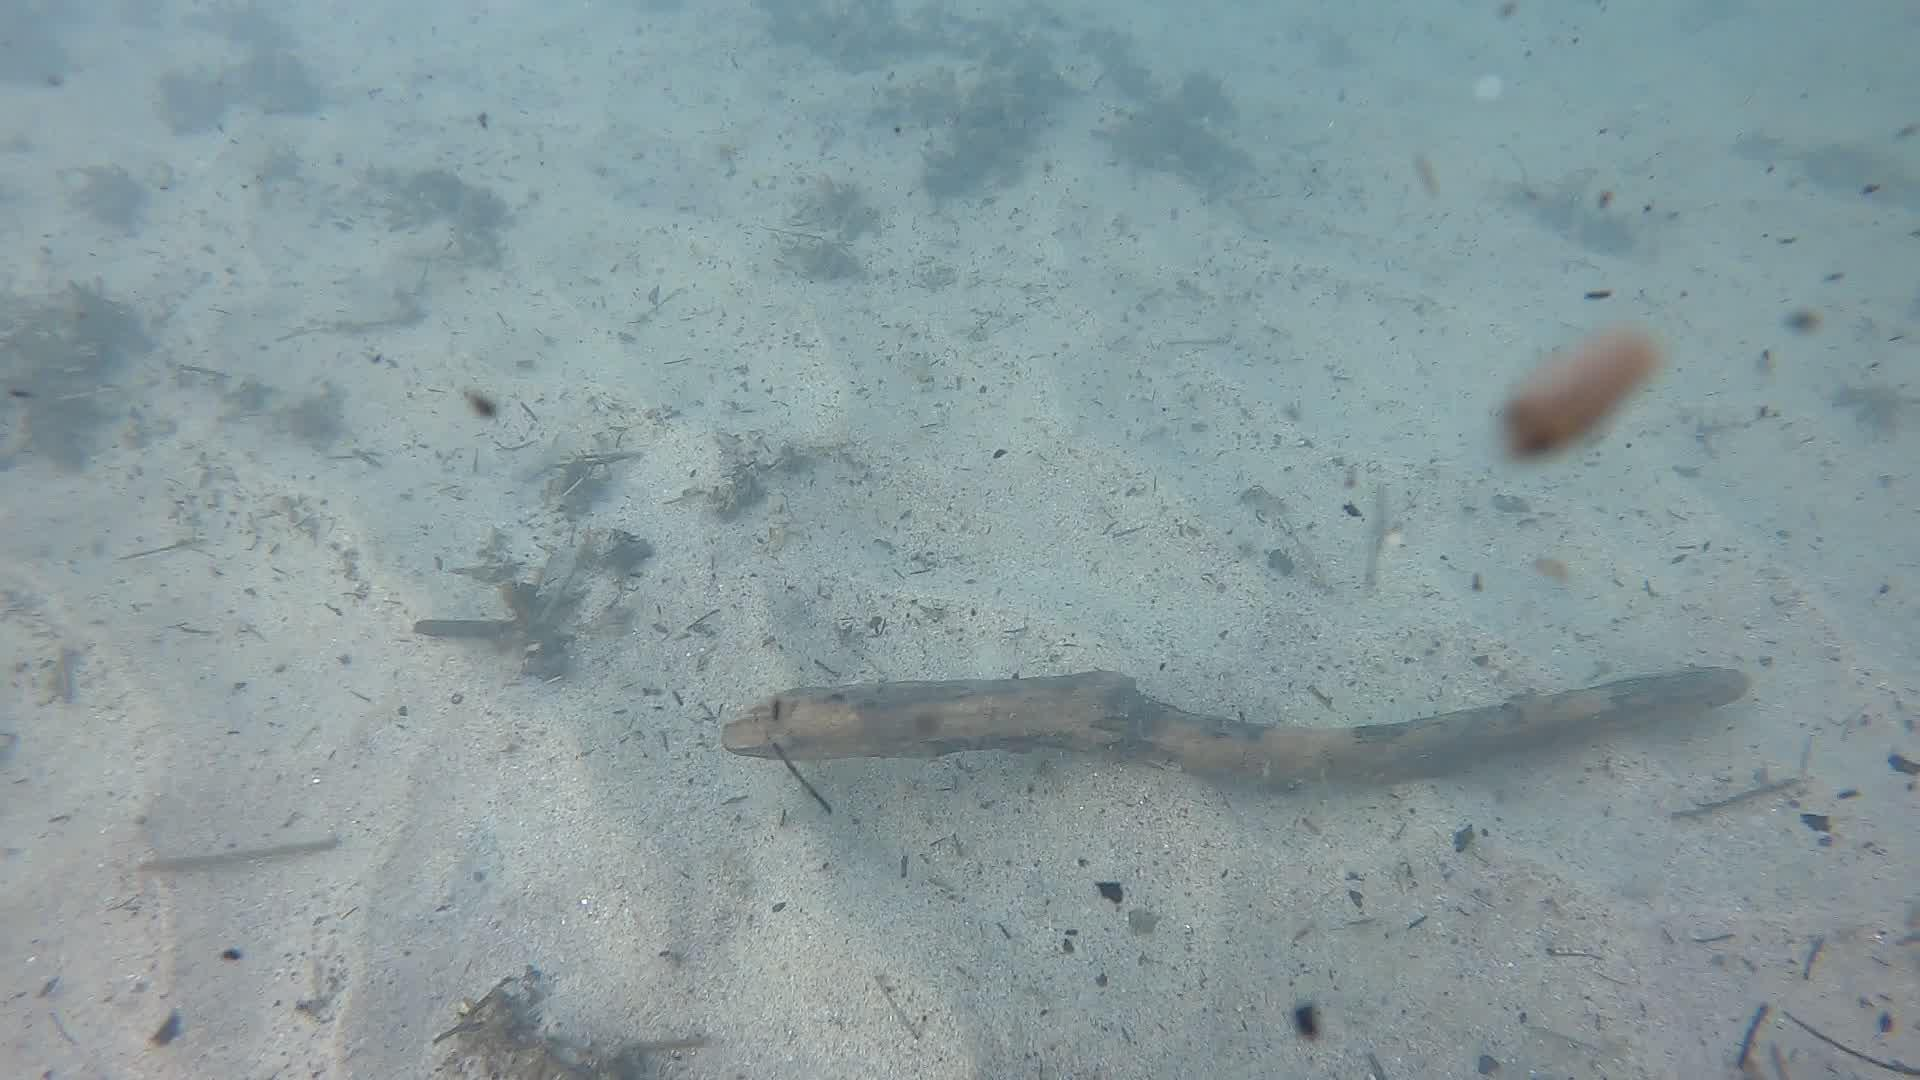wood: (723, 665, 1749, 794)
